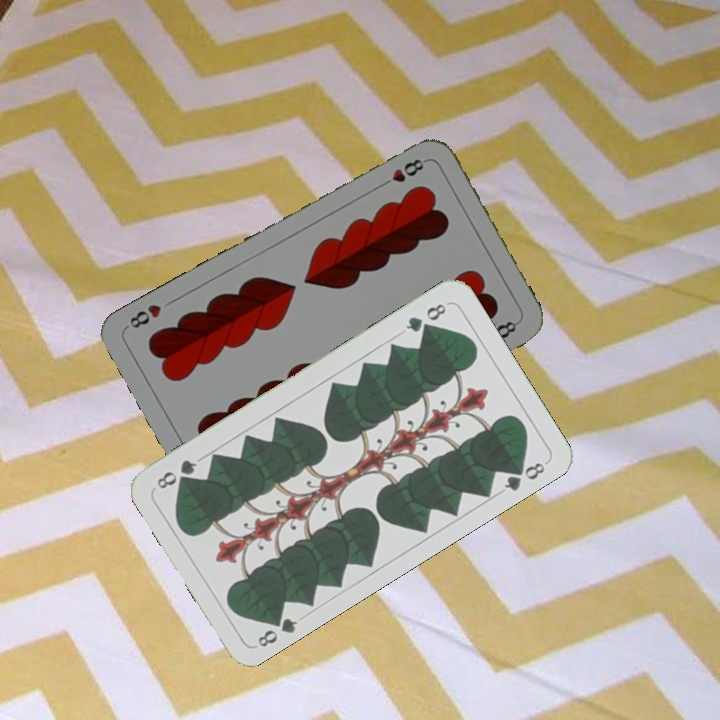G8: (252, 609, 301, 650), (401, 299, 449, 335)
H8: (376, 154, 430, 190)
